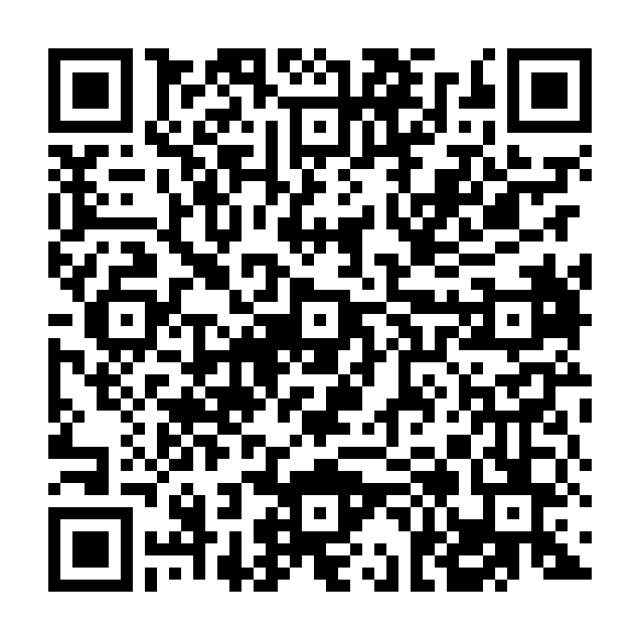QRCode: (1, 1, 615, 640)
